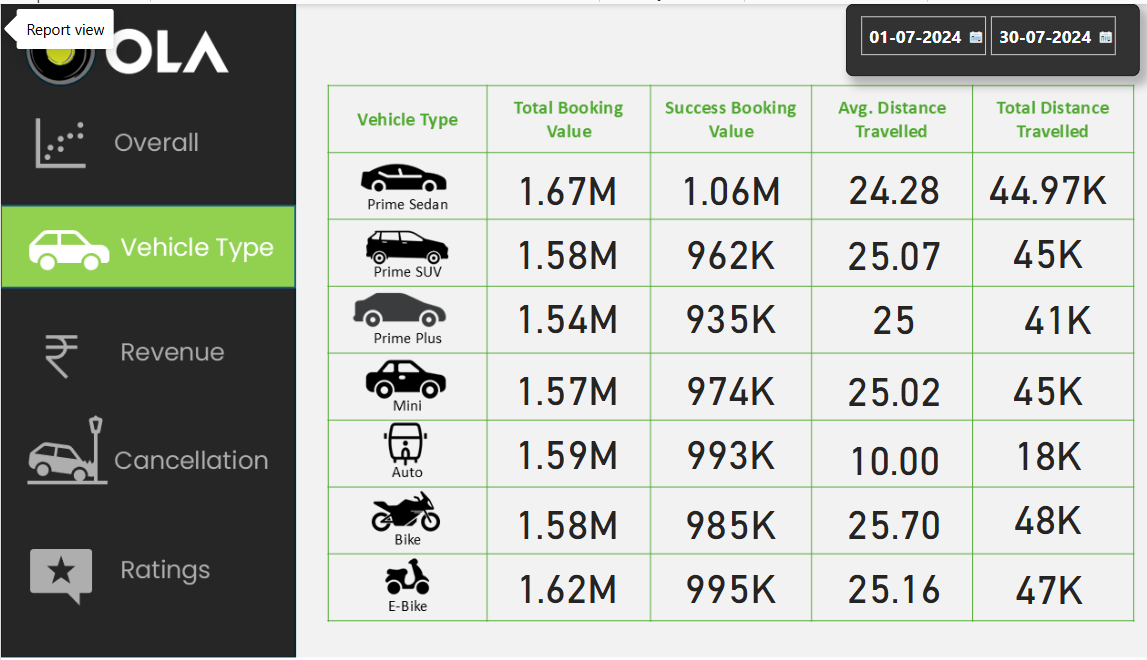

The page's visual inventory and layout, read from the dashboard file:
{"tool":"powerbi","page":{"name":"Vehical type","canvas":[1280,720],"ordinal":1},"visuals":[{"type":"actionButton","box":[0,107.2,319.4,98.3],"z":0},{"type":"actionButton","box":[0,322.7,319.4,98.3],"z":1000},{"type":"actionButton","box":[0,441.1,319.4,98.3],"z":2000},{"type":"actionButton","box":[0,573.9,319.4,98.3],"z":3000},{"type":"card","fields":{"Values":["Sum(July.Booking_Value)"]},"box":[531.4,165.7,180,70],"z":4000},{"type":"card","fields":{"Values":["Sum(July.Booking_Value)"]},"box":[531.4,235.7,180,70],"z":5000},{"type":"card","fields":{"Values":["Sum(July.Booking_Value)"]},"box":[531.4,305.7,180,70],"z":6000},{"type":"card","fields":{"Values":["Sum(July.Booking_Value)"]},"box":[531.4,385.7,180,70],"z":7000},{"type":"card","fields":{"Values":["Sum(July.Booking_Value)"]},"box":[531.4,455.7,180,70],"z":8000},{"type":"card","fields":{"Values":["Sum(July.Booking_Value)"]},"box":[531.4,532.9,180,70],"z":9000},{"type":"card","fields":{"Values":["Sum(July.Booking_Value)"]},"box":[531.4,602.9,180,70],"z":10000},{"type":"card","fields":{"Values":["Sum(July.Booking_Value)"]},"box":[711.4,165.7,180,70],"z":11000},{"type":"card","fields":{"Values":["Sum(July.Booking_Value)"]},"box":[710.8,236,179.8,70],"z":12000},{"type":"card","fields":{"Values":["Sum(July.Booking_Value)"]},"box":[710.8,306,179.8,70],"z":13000},{"type":"card","fields":{"Values":["Sum(July.Booking_Value)"]},"box":[710.8,385.6,179.8,70],"z":14000},{"type":"card","fields":{"Values":["Sum(July.Booking_Value)"]},"box":[710.8,602.4,179.8,70],"z":15000},{"type":"card","fields":{"Values":["Sum(July.Booking_Value)"]},"box":[710.8,532.4,179.8,70],"z":16000},{"type":"card","fields":{"Values":["Sum(July.Booking_Value)"]},"box":[710.8,455.6,179.8,70],"z":17000},{"type":"card","fields":{"Values":["Avg(July.Ride_Distance)"]},"box":[890.6,164.7,179.8,70],"z":18000},{"type":"card","fields":{"Values":["Avg(July.Ride_Distance)"]},"box":[890.6,237.4,179.8,70],"z":19000},{"type":"card","fields":{"Values":["Avg(July.Ride_Distance)"]},"box":[890.6,307.4,179.8,70],"z":20000},{"type":"card","fields":{"Values":["Avg(July.Ride_Distance)"]},"box":[890.6,387,179.8,70],"z":21000},{"type":"card","fields":{"Values":["Avg(July.Ride_Distance)"]},"box":[890.6,462.4,179.8,70],"z":22000},{"type":"card","fields":{"Values":["Avg(July.Ride_Distance)"]},"box":[890.6,532.4,179.8,70],"z":23000},{"type":"card","fields":{"Values":["Avg(July.Ride_Distance)"]},"box":[890.6,602.4,179.8,70],"z":24000},{"type":"card","fields":{"Values":["Sum(July.Ride_Distance)"]},"box":[1059.4,164.7,179.8,70],"z":25000},{"type":"card","fields":{"Values":["Sum(July.Ride_Distance)"]},"box":[1059.4,234.6,179.8,70],"z":26000},{"type":"card","fields":{"Values":["Sum(July.Ride_Distance)"]},"box":[1070.3,307.4,179.8,70],"z":27000},{"type":"card","fields":{"Values":["Sum(July.Ride_Distance)"]},"box":[1059.4,385.6,179.8,70],"z":28000},{"type":"card","fields":{"Values":["Sum(July.Ride_Distance)"]},"box":[1059.4,456.9,179.8,70],"z":29000},{"type":"card","fields":{"Values":["Sum(July.Ride_Distance)"]},"box":[1059.4,526.9,179.8,70],"z":30000},{"type":"card","fields":{"Values":["Sum(July.Ride_Distance)"]},"box":[1060.7,603.8,179.8,70],"z":31000},{"type":"slicer","fields":{"Values":["July.Date"]},"box":[927.6,0,322.5,79.6],"z":32000}]}

Visuals, with their boxes on the page's 1280x720 design canvas (x1, y1, x2, y2). These are canvas units, not pixel positions in the 1147x660 screenshot, which may show the page scaled, cropped or inside an application window:
actionButton: [0, 107, 319, 206]
actionButton: [0, 323, 319, 421]
actionButton: [0, 441, 319, 539]
actionButton: [0, 574, 319, 672]
card - Sum(July.Booking_Value): [531, 166, 711, 236]
card - Sum(July.Booking_Value): [531, 236, 711, 306]
card - Sum(July.Booking_Value): [531, 306, 711, 376]
card - Sum(July.Booking_Value): [531, 386, 711, 456]
card - Sum(July.Booking_Value): [531, 456, 711, 526]
card - Sum(July.Booking_Value): [531, 533, 711, 603]
card - Sum(July.Booking_Value): [531, 603, 711, 673]
card - Sum(July.Booking_Value): [711, 166, 891, 236]
card - Sum(July.Booking_Value): [711, 236, 891, 306]
card - Sum(July.Booking_Value): [711, 306, 891, 376]
card - Sum(July.Booking_Value): [711, 386, 891, 456]
card - Sum(July.Booking_Value): [711, 602, 891, 672]
card - Sum(July.Booking_Value): [711, 532, 891, 602]
card - Sum(July.Booking_Value): [711, 456, 891, 526]
card - Avg(July.Ride_Distance): [891, 165, 1070, 235]
card - Avg(July.Ride_Distance): [891, 237, 1070, 307]
card - Avg(July.Ride_Distance): [891, 307, 1070, 377]
card - Avg(July.Ride_Distance): [891, 387, 1070, 457]
card - Avg(July.Ride_Distance): [891, 462, 1070, 532]
card - Avg(July.Ride_Distance): [891, 532, 1070, 602]
card - Avg(July.Ride_Distance): [891, 602, 1070, 672]
card - Sum(July.Ride_Distance): [1059, 165, 1239, 235]
card - Sum(July.Ride_Distance): [1059, 235, 1239, 305]
card - Sum(July.Ride_Distance): [1070, 307, 1250, 377]
card - Sum(July.Ride_Distance): [1059, 386, 1239, 456]
card - Sum(July.Ride_Distance): [1059, 457, 1239, 527]
card - Sum(July.Ride_Distance): [1059, 527, 1239, 597]
card - Sum(July.Ride_Distance): [1061, 604, 1240, 674]
slicer - July.Date: [928, 0, 1250, 80]
